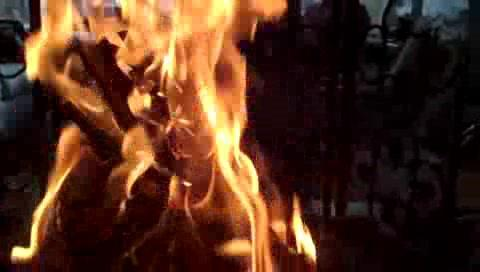fire: (36, 2, 293, 268)
